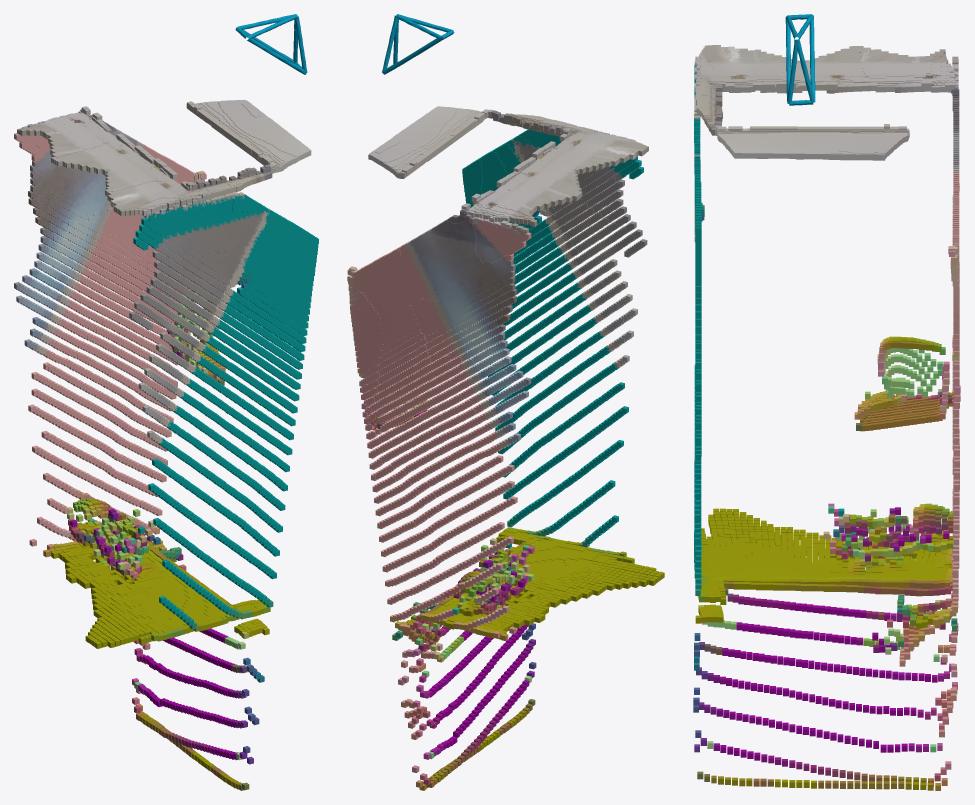
3 renders of one model, left to right at view 1: azimuth 30°, elevation 25°; view 2: azimuth 150°, elevation 25°; view 3: azimuth 270°, elevation 25°, orthographic. The views are drawn at different scales.
Bounding box in the file's own units: 2.61 × 7.42 × 2.24.
